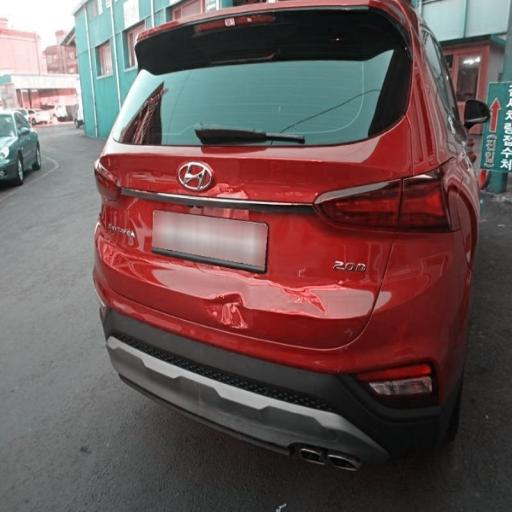dent: (186, 244, 285, 384)
scratch: (100, 130, 241, 292)
